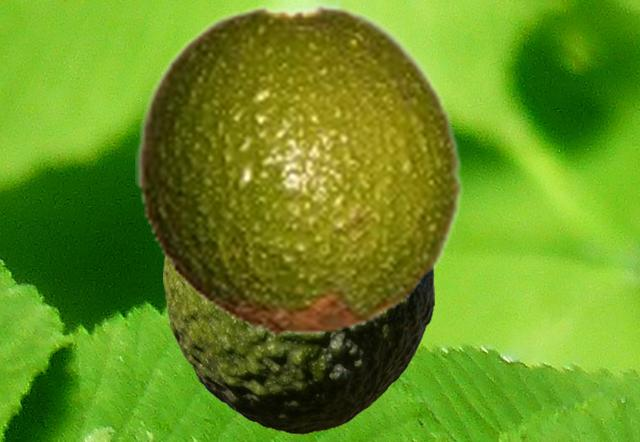avocado: (135, 3, 465, 336), (163, 258, 433, 433)
